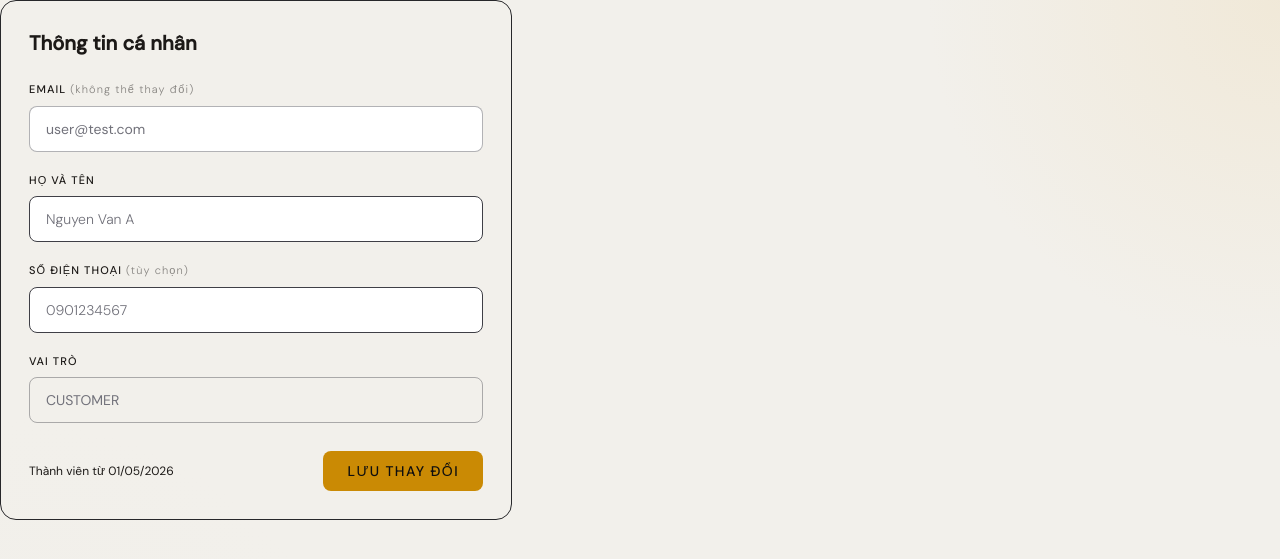
EditProfileForm › should clear full name error when user changes full name
Clear the field showing "Nguyen Van A" below "Họ và tên": (256,219) left=29, top=196, right=483, bottom=242
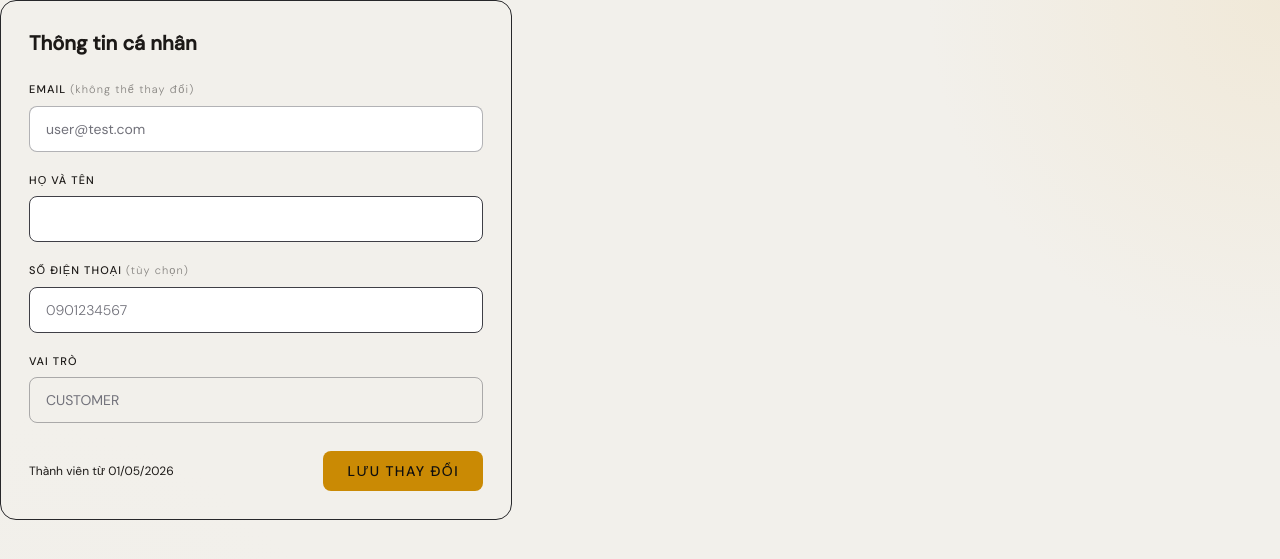
Submit the form, box left=29, top=81, right=483, bottom=491
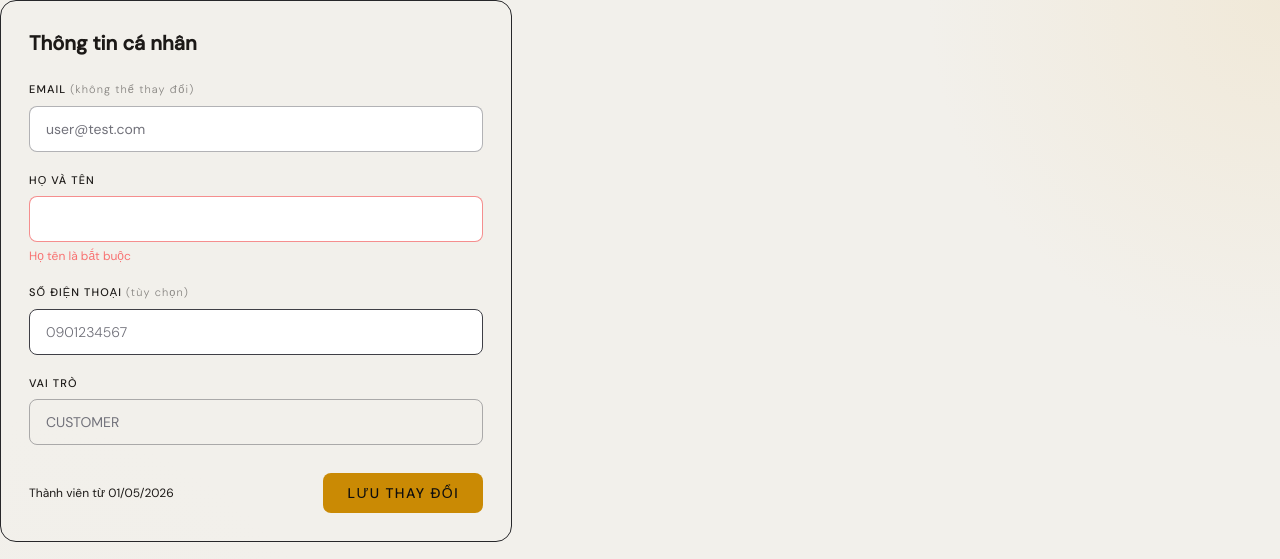
Expected: the text "Họ tên là bắt buộc" is shown, left=29, top=248, right=131, bottom=264
In the field showing "Nguyen Van A" below "Họ và tên": (256,219) left=29, top=196, right=483, bottom=242, type "Nguyen Van B"
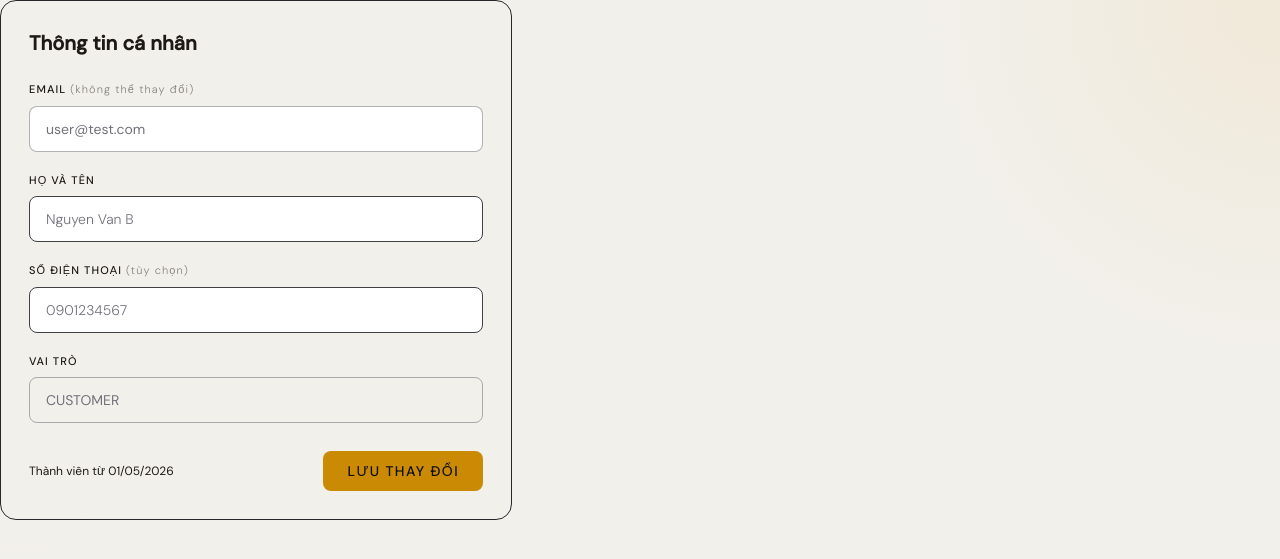
Expected: the text "Họ tên là bắt buộc" is gone
